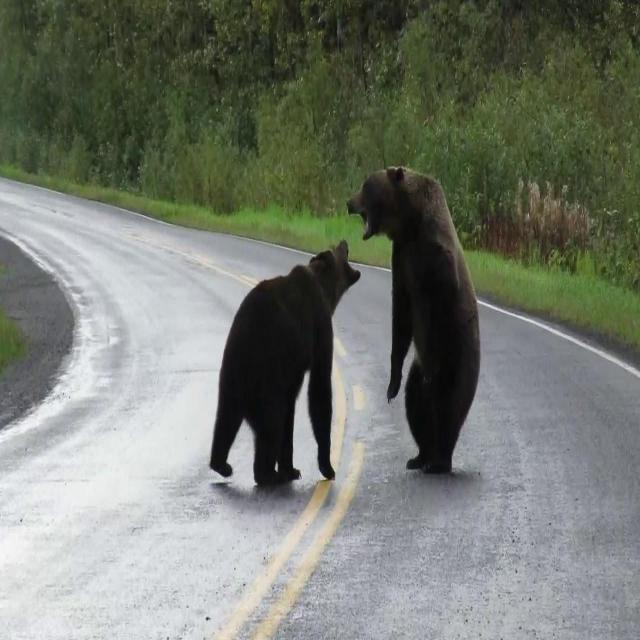Bear: (348, 167, 482, 475), (209, 242, 362, 490)
